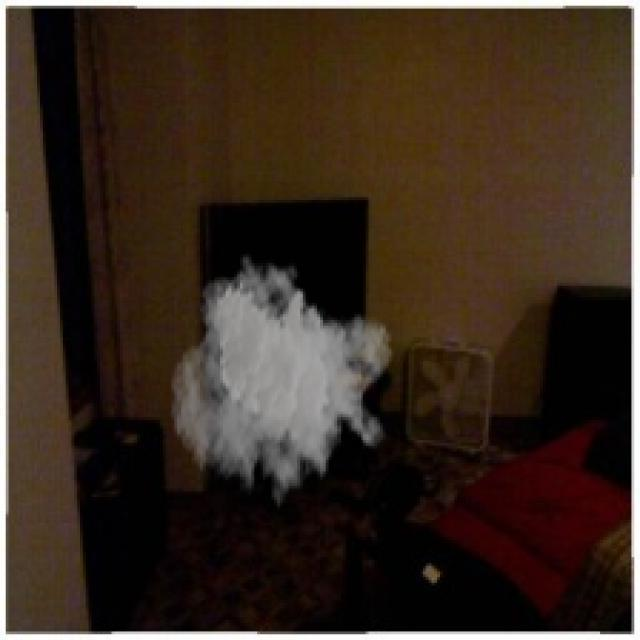Smoke: (168, 252, 394, 517)
